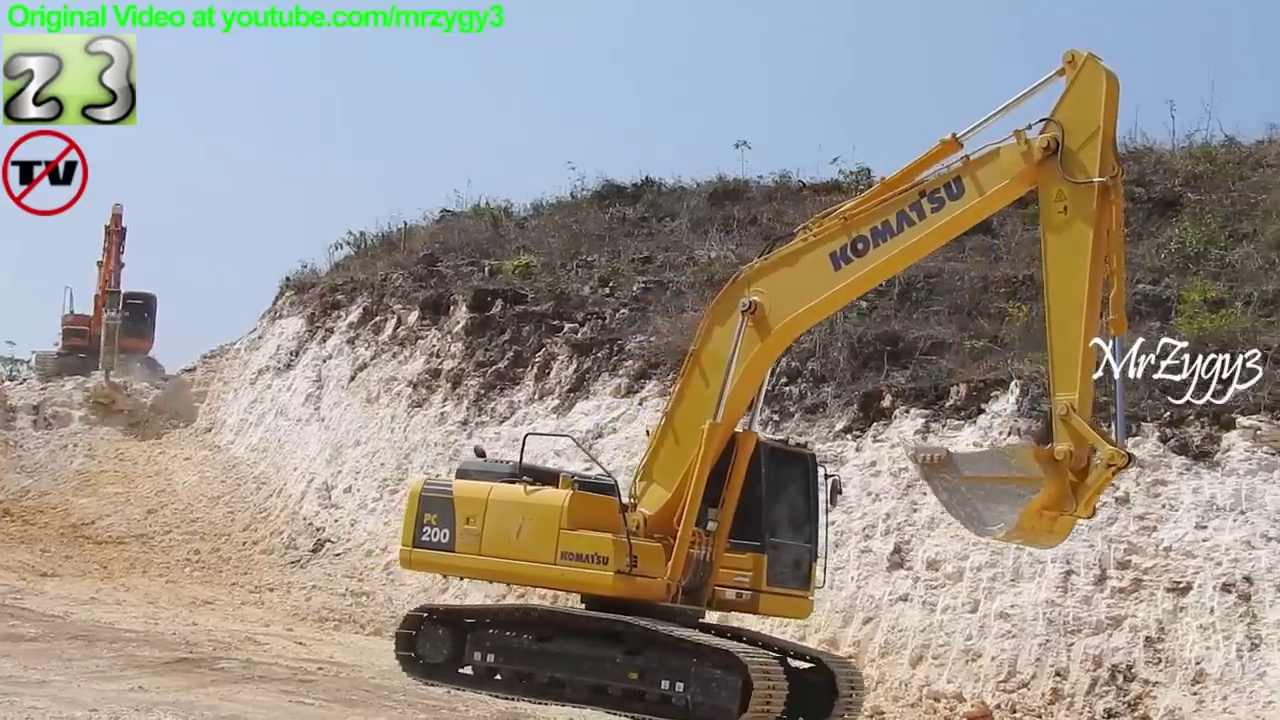excavator: (389, 47, 1141, 720), (34, 196, 175, 414)
